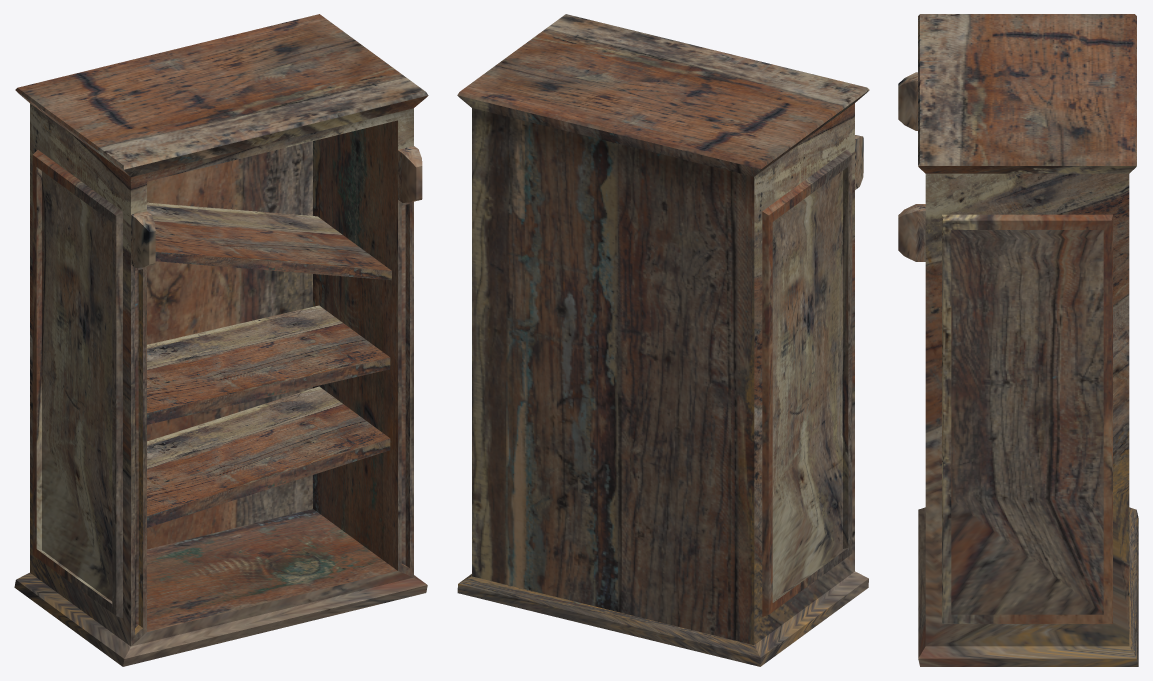
The model's file is broken book shelve.fbx.
3 views of the same model, side by side, from view 1: azimuth 30°, elevation 25°; view 2: azimuth 150°, elevation 25°; view 3: azimuth 270°, elevation 25° (orthographic).
Visible parts, largest first — view 1: Shelve, 3, 2, 1; view 2: Shelve; view 3: Shelve.
Part boxes in pixels (box(x1,y1,x2,y2)): Shelve: box(14, 14, 428, 666); 3: box(147, 386, 390, 527); 2: box(147, 305, 390, 424); 1: box(147, 202, 391, 280); Shelve: box(457, 14, 869, 666); Shelve: box(898, 14, 1138, 666).
Bounding box in the file's own units: 841 × 1948 × 1239.
1 material, 1 textured.
